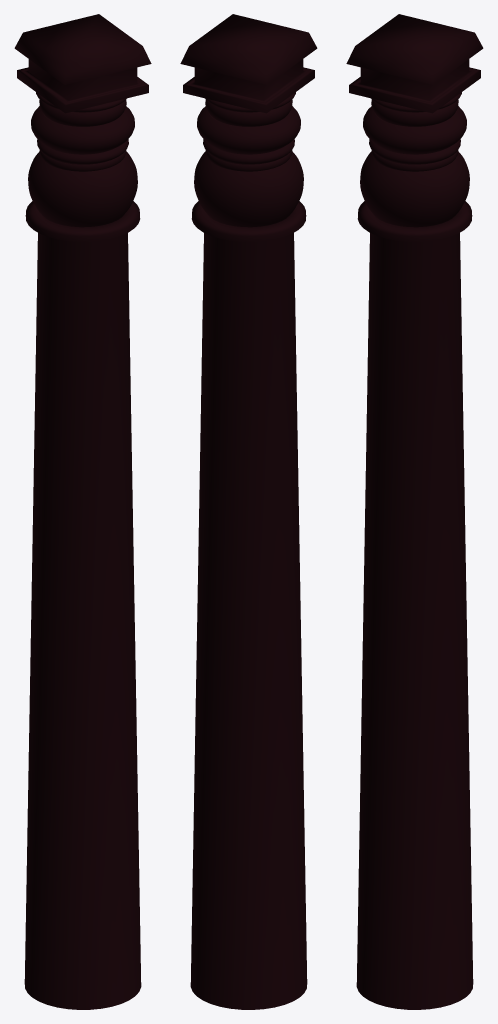
File: iron pillar.fbx
The picture shows the model from 3 angles, left to right: view 1: azimuth 30°, elevation 25°; view 2: azimuth 150°, elevation 25°; view 3: azimuth 330°, elevation 25°; orthographic projection.
Visible parts, largest first — view 1: Cylinder.001; view 2: Cylinder.001; view 3: Cylinder.001.
Part boxes in pixels (x1,y1,x2,y2): Cylinder.001: (14, 14, 151, 1009); Cylinder.001: (180, 14, 317, 1009); Cylinder.001: (346, 14, 483, 1009).
Bounding box in the file's own units: 91.64 × 819 × 91.64.
